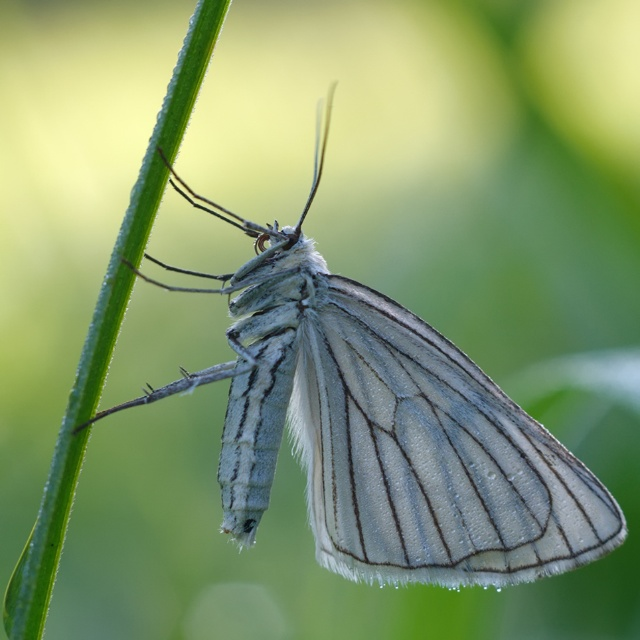Butterfly: (71, 78, 627, 588)
